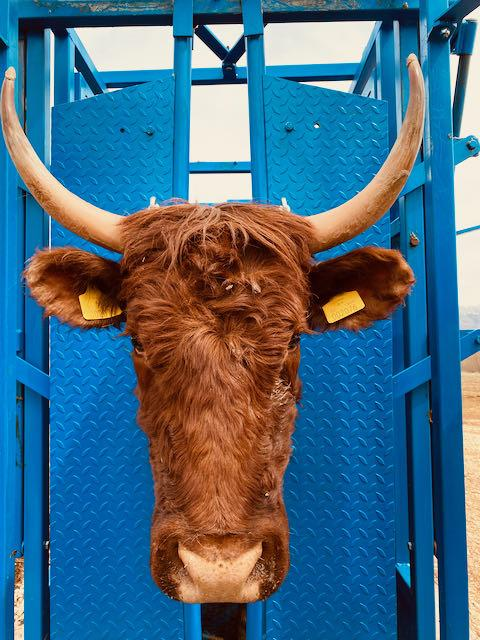muzzles: (140, 526, 295, 612)
